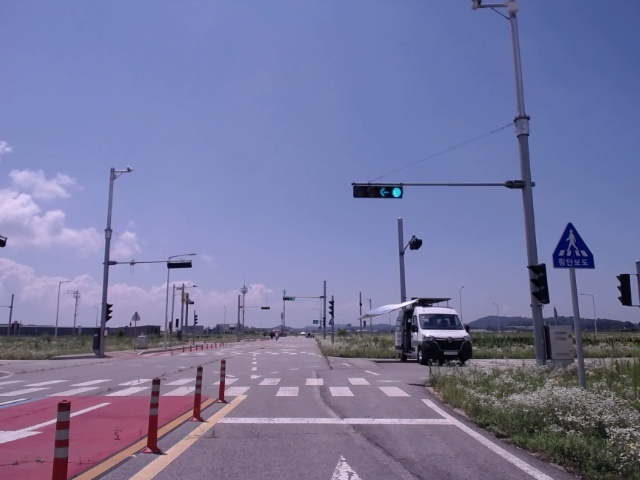all_green_4: (350, 184, 401, 199)
